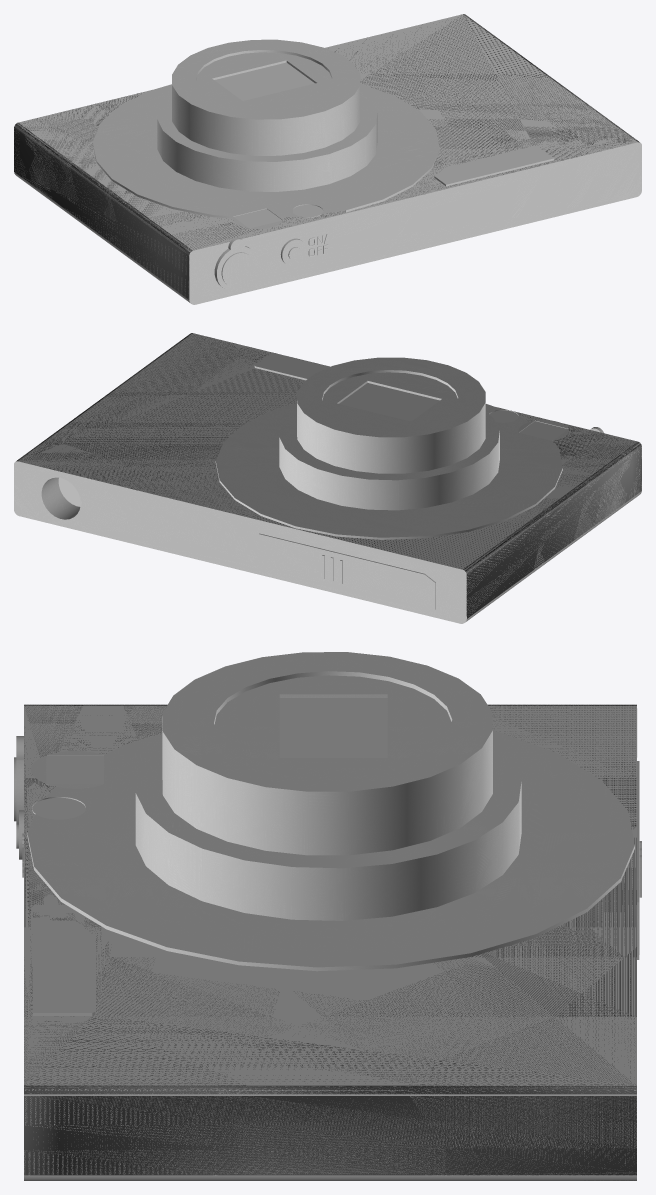
File: model_scale.obj
3 renders of one model, top to bottom at view 1: azimuth 30°, elevation 25°; view 2: azimuth 150°, elevation 25°; view 3: azimuth 270°, elevation 25°, orthographic. The views are drawn at different scales.
Visible parts, largest first — view 1: mesh55_mesh55-geometry; view 2: mesh55_mesh55-geometry; view 3: mesh55_mesh55-geometry.
Part boxes in pixels (x1,y1,x2,y2): mesh55_mesh55-geometry: [14, 14, 641, 304]; mesh55_mesh55-geometry: [14, 333, 641, 623]; mesh55_mesh55-geometry: [14, 652, 641, 1180].
Size of the model in its own units: 0.1353 by 0.0363 by 0.0929.
